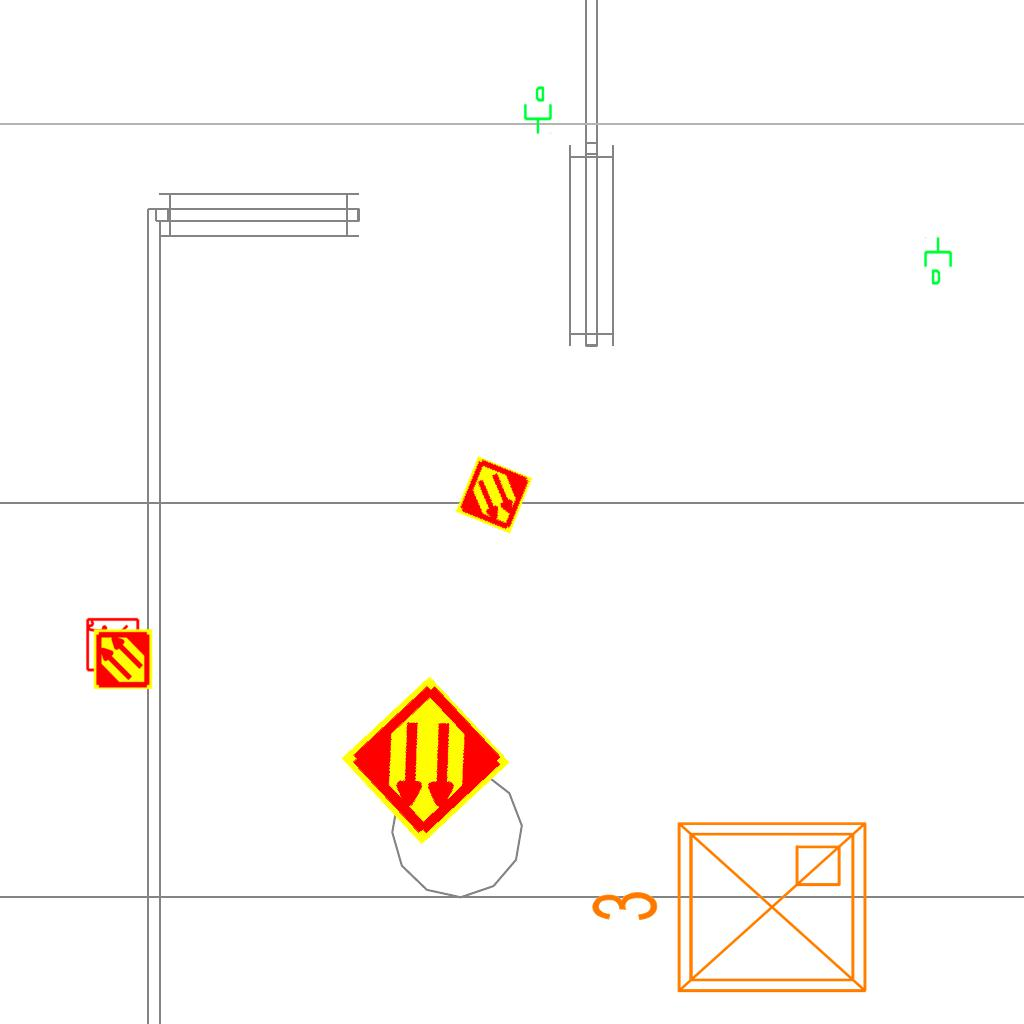ASR_Ansaugrauchmelder: (337, 672, 514, 849), (453, 454, 535, 536), (92, 628, 154, 690)
Datenanschluss_einfach: (922, 236, 956, 286), (520, 85, 554, 135)
Einbaudownlights_LED_Konferenzraeume: (581, 807, 881, 1015)
ROA_Rauchmelder_optisch_mit_Signalgeber_(Sockelsirene): (84, 617, 140, 673)
